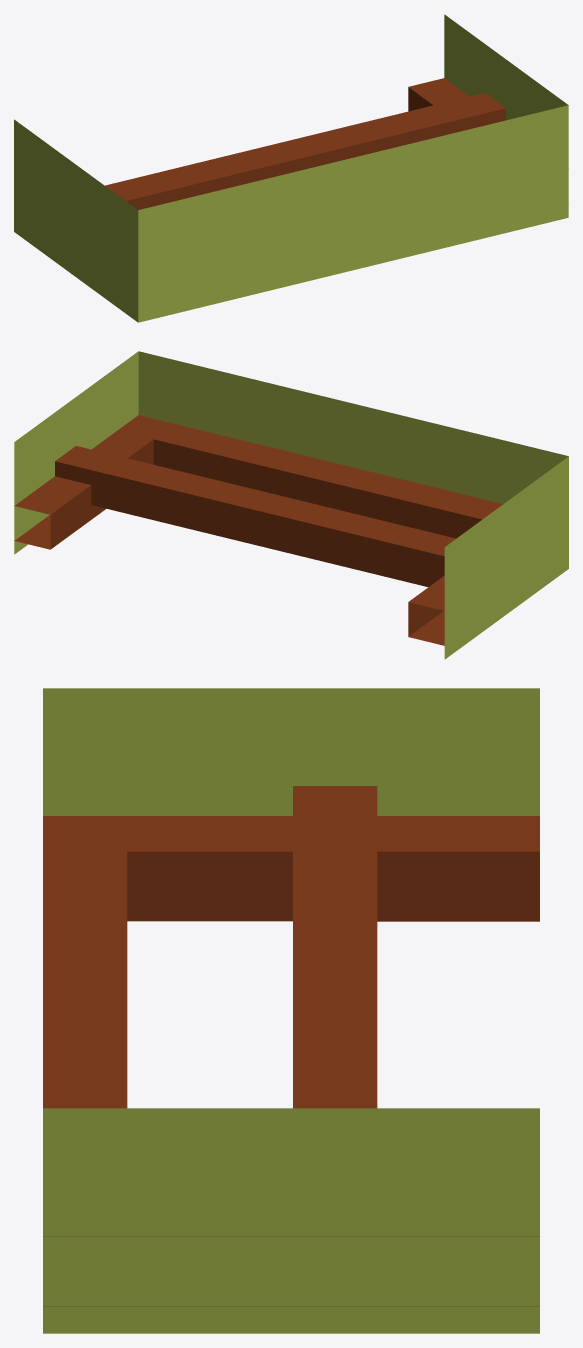
The model's file is ModuleSc_A_Top2.FBX.
3 views of the same model, one above another, from view 1: azimuth 30°, elevation 25°; view 2: azimuth 150°, elevation 25°; view 3: azimuth 270°, elevation 25° (orthographic). The views are drawn at different scales.
Parts seen in each view (by area): view 1: ModuleSc_A_wall_top_02, ModuleSc_A_wall_half_top_04, ModuleSc_A_frame_top_01, ModuleSc_A_wall_half_top_01, ModuleSc_A_frame_top_02, ModuleSc_A_frameL_top_01; view 2: ModuleSc_A_wall_top_02, ModuleSc_A_frameL_top_02, ModuleSc_A_wall_half_top_04, ModuleSc_A_frame_top_01, ModuleSc_A_frame_top_02, ModuleSc_A_wall_half_top_01, ModuleSc_A_frameL_top_01, ModuleSc_A_frameL_top_03; view 3: ModuleSc_A_wall_half_top_01, ModuleSc_A_wall_half_top_04, ModuleSc_A_frameL_top_03, ModuleSc_A_frameL_top_02, ModuleSc_A_frame_top_02, ModuleSc_A_frame_top_01, ModuleSc_A_frameL_top_01.
Part boxes in pixels (<box>): ModuleSc_A_wall_top_02: <box>138,105,568,322</box>; ModuleSc_A_wall_half_top_04: <box>14,119,138,322</box>; ModuleSc_A_frame_top_01: <box>270,93,505,172</box>; ModuleSc_A_wall_half_top_01: <box>444,14,568,120</box>; ModuleSc_A_frame_top_02: <box>105,145,290,209</box>; ModuleSc_A_frameL_top_01: <box>408,78,469,111</box>; ModuleSc_A_wall_top_02: <box>138,351,568,503</box>; ModuleSc_A_frameL_top_02: <box>138,415,503,538</box>; ModuleSc_A_wall_half_top_04: <box>444,456,568,659</box>; ModuleSc_A_frame_top_01: <box>55,446,290,548</box>; ModuleSc_A_frame_top_02: <box>270,498,455,587</box>; ModuleSc_A_wall_half_top_01: <box>14,351,138,554</box>; ModuleSc_A_frameL_top_01: <box>14,415,153,549</box>; ModuleSc_A_frameL_top_03: <box>408,576,444,645</box>; ModuleSc_A_wall_half_top_01: <box>43,1108,539,1333</box>; ModuleSc_A_wall_half_top_04: <box>43,688,539,815</box>; ModuleSc_A_frameL_top_03: <box>43,816,539,921</box>; ModuleSc_A_frameL_top_02: <box>43,816,127,1236</box>; ModuleSc_A_frame_top_02: <box>293,786,377,995</box>; ModuleSc_A_frame_top_01: <box>293,996,377,1108</box>; ModuleSc_A_frameL_top_01: <box>43,1236,539,1306</box>.
Size of the model in its own units: 78.8 by 19.69 by 39.37.
